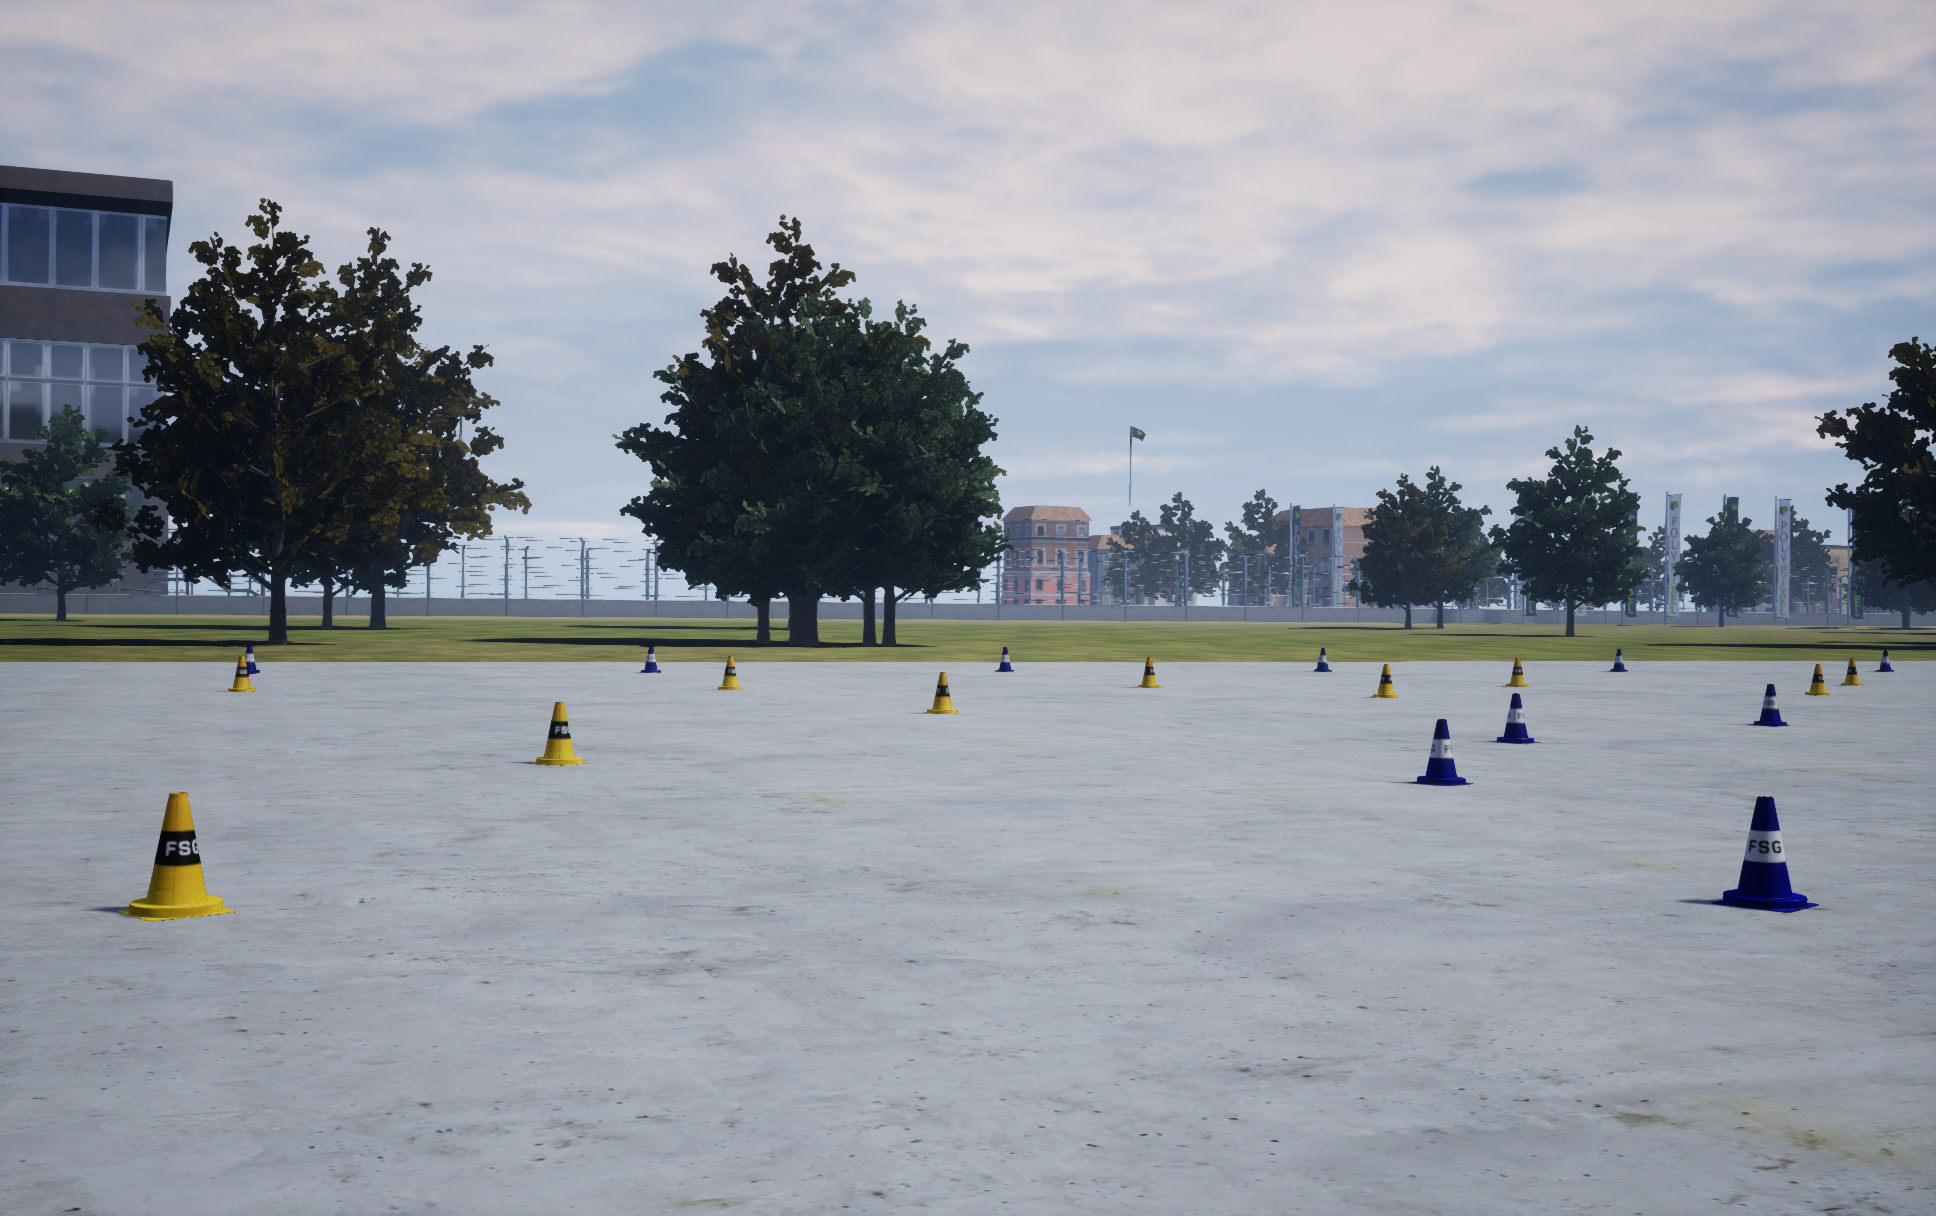blue: (116, 792, 235, 920), (528, 702, 588, 765), (925, 672, 957, 714), (227, 656, 256, 691), (719, 656, 747, 689), (1371, 664, 1398, 698), (1804, 664, 1830, 695), (1136, 657, 1161, 686), (1505, 657, 1528, 686), (1841, 658, 1865, 685)
yellow: (1710, 796, 1818, 912), (1409, 719, 1472, 785), (1491, 693, 1540, 742), (1748, 684, 1789, 726), (639, 646, 660, 672), (995, 647, 1013, 671), (1608, 649, 1626, 671), (245, 644, 259, 672), (1874, 650, 1893, 671), (1314, 649, 1331, 671)
